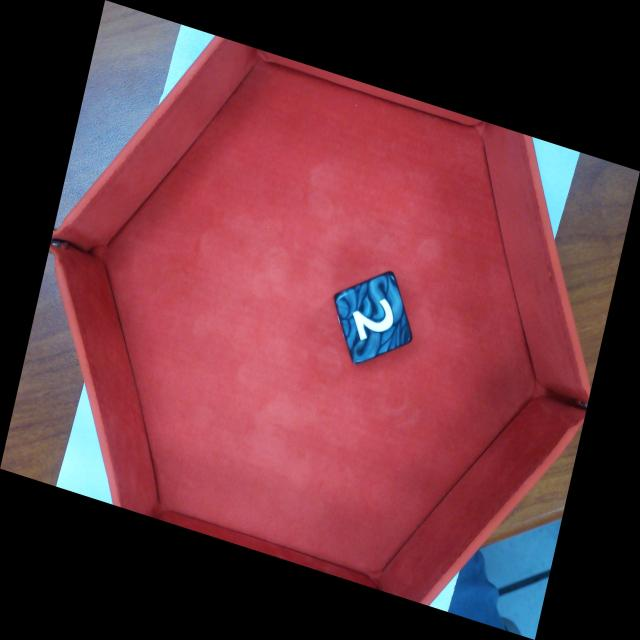dice: (331, 267, 415, 366)
